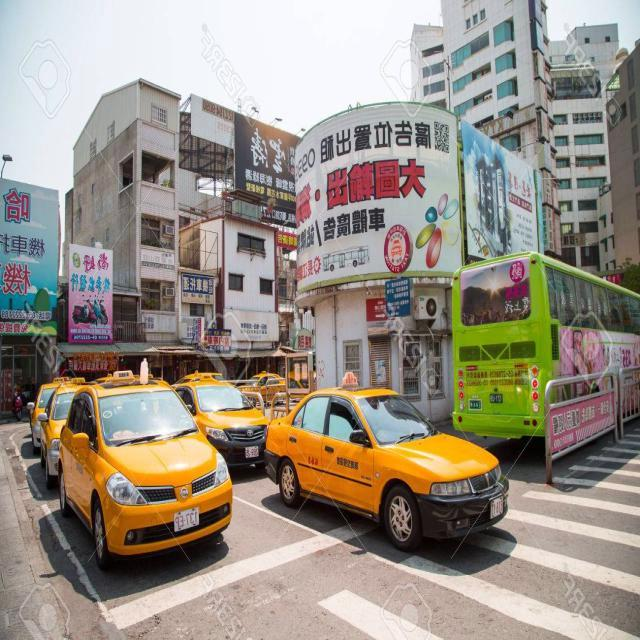taxi: (263, 373, 515, 570), (50, 365, 231, 591), (182, 361, 272, 469)
